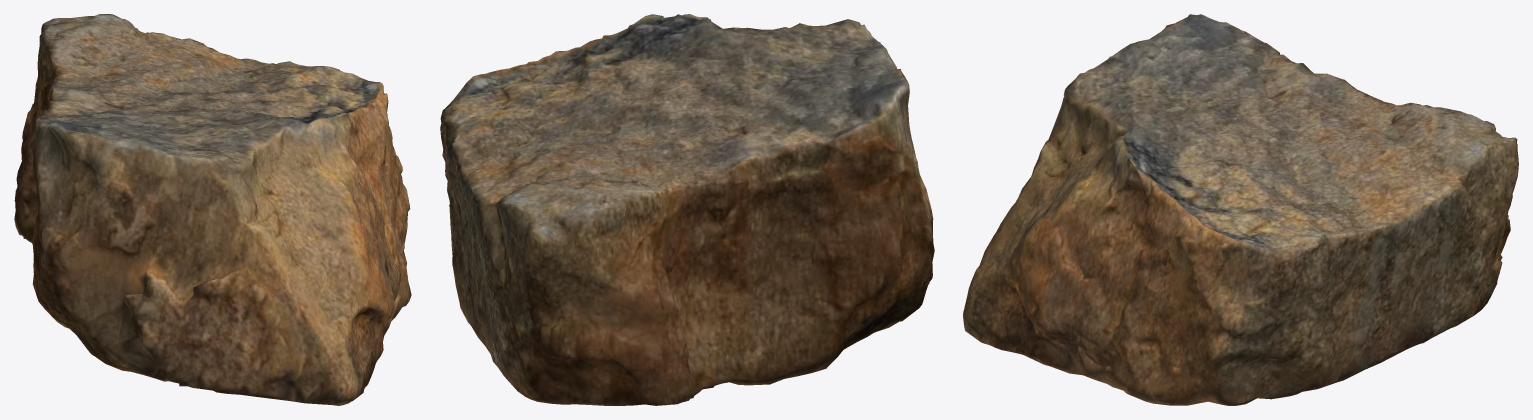
File: namaqualand_boulder_03.glb
The picture shows the model from 3 angles, left to right: view 1: azimuth 30°, elevation 25°; view 2: azimuth 150°, elevation 25°; view 3: azimuth 270°, elevation 25°; orthographic projection. The views are drawn at different scales.
Parts seen in each view (by area): view 1: boulder_03_LOD0; view 2: boulder_03_LOD0; view 3: boulder_03_LOD0.
Part boxes in pixels (<box>): boulder_03_LOD0: <box>14,14,411,405</box>; boulder_03_LOD0: <box>440,14,934,405</box>; boulder_03_LOD0: <box>963,14,1518,405</box>.
Size of the model in its own units: 2.4 by 1.47 by 3.06.
1 material, 1 textured.
